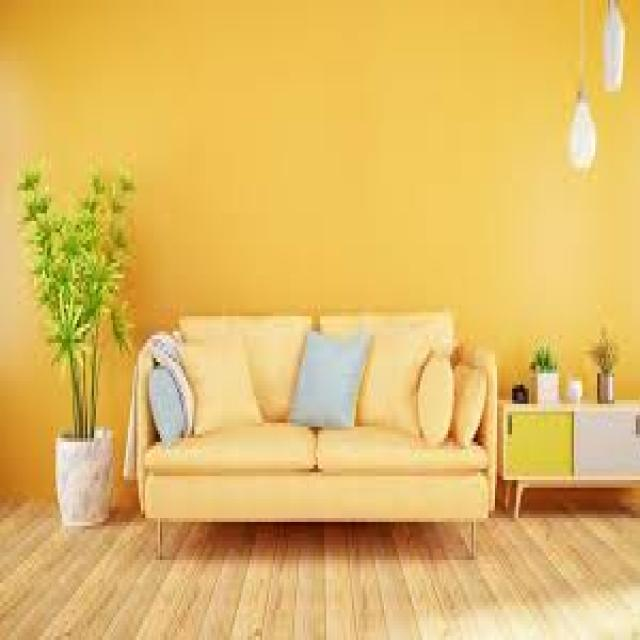Sofa: (131, 304, 498, 564)
Table: (502, 374, 640, 517)
